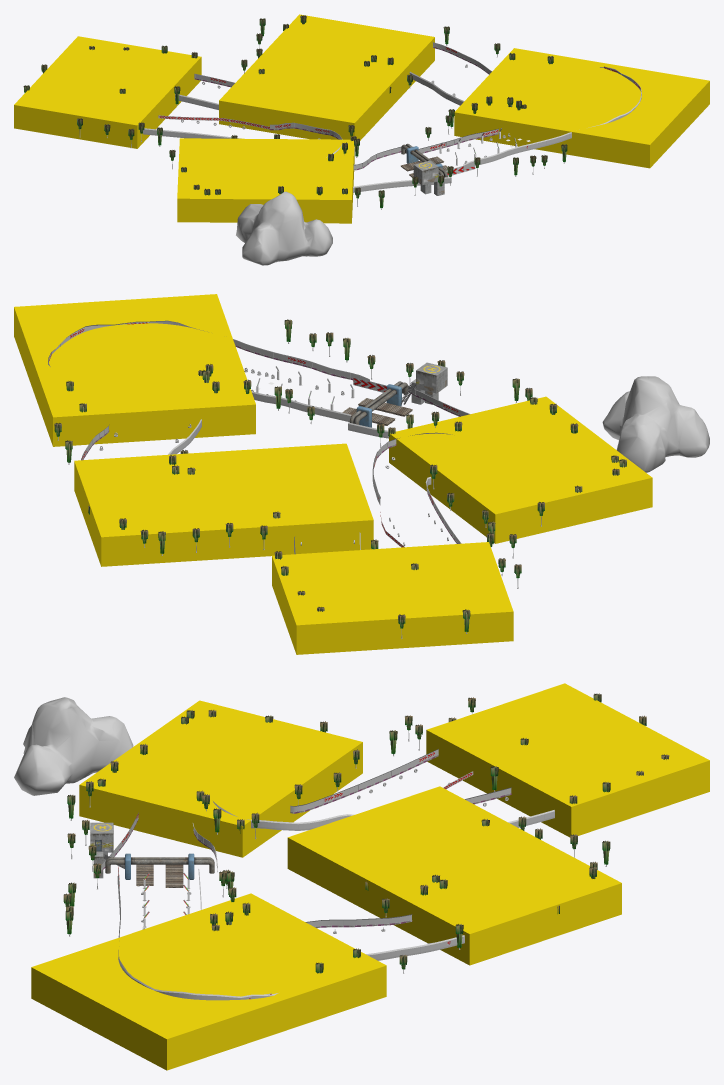
Rendered from Offroad.fbx.
The picture shows the model from 3 angles, top to bottom: view 1: azimuth 30°, elevation 25°; view 2: azimuth 150°, elevation 25°; view 3: azimuth 270°, elevation 25°; orthographic projection. The views are drawn at different scales.
Parts seen in each view (by area): view 1: Speed_LImiter__3_, Speed_LImiter__2_, Speed_LImiter__1_, Speed_LImiter, Rock_10__8_, Fence_Left_Mesh_1, Fence_Right_Mesh_1, pipe_House_, Fence_Left_Mesh_1_3, Fence_Left_Mesh_1_2, Pipe_1, Fence_Right_Mesh_1_2; view 2: Speed_LImiter__2_, Speed_LImiter__3_, Speed_LImiter, Speed_LImiter__1_, Rock_10__8_, Fence_Left_Mesh_1, pipe_House_, Fence_Right_Mesh_1, Pipe_1; view 3: Speed_LImiter__3_, Speed_LImiter__2_, Speed_LImiter, Speed_LImiter__1_, Rock_10__8_, Fence_Left_Mesh_1, Pipe_1, Fence_Left_Mesh_1_3, pipe_House_, Fence_Right_Mesh_1, Fence_Right_Mesh_1_2.
Boxes of the visible parts, x1,y1,x2,y2 form: Speed_LImiter__3_: [454, 48, 709, 168]; Speed_LImiter__2_: [219, 14, 434, 140]; Speed_LImiter__1_: [14, 36, 201, 148]; Speed_LImiter: [177, 138, 354, 223]; Rock_10__8_: [236, 191, 332, 265]; Fence_Left_Mesh_1: [433, 42, 641, 170]; Fence_Right_Mesh_1: [409, 71, 498, 153]; pipe_House_: [413, 160, 444, 195]; Fence_Left_Mesh_1_3: [143, 128, 241, 138]; Fence_Left_Mesh_1_2: [353, 177, 451, 192]; Pipe_1: [401, 143, 447, 177]; Fence_Right_Mesh_1_2: [270, 122, 342, 157]; Speed_LImiter__2_: [74, 443, 373, 566]; Speed_LImiter__3_: [14, 294, 255, 446]; Speed_LImiter: [389, 396, 652, 543]; Speed_LImiter__1_: [272, 542, 513, 654]; Rock_10__8_: [602, 376, 709, 472]; Fence_Left_Mesh_1: [48, 320, 369, 460]; pipe_House_: [401, 362, 447, 404]; Fence_Right_Mesh_1: [168, 391, 351, 454]; Pipe_1: [349, 381, 408, 427]; Speed_LImiter__3_: [31, 893, 386, 1070]; Speed_LImiter__2_: [287, 786, 621, 965]; Speed_LImiter: [79, 700, 362, 857]; Speed_LImiter__1_: [426, 683, 709, 837]; Rock_10__8_: [14, 697, 133, 795]; Fence_Left_Mesh_1: [117, 875, 464, 1000]; Pipe_1: [105, 853, 214, 879]; Fence_Left_Mesh_1_3: [290, 749, 438, 813]; pipe_House_: [90, 822, 124, 878]; Fence_Right_Mesh_1: [198, 869, 412, 928]; Fence_Right_Mesh_1_2: [213, 801, 354, 830].
Size of the model in its own units: 57833 by 5923 by 47782.
